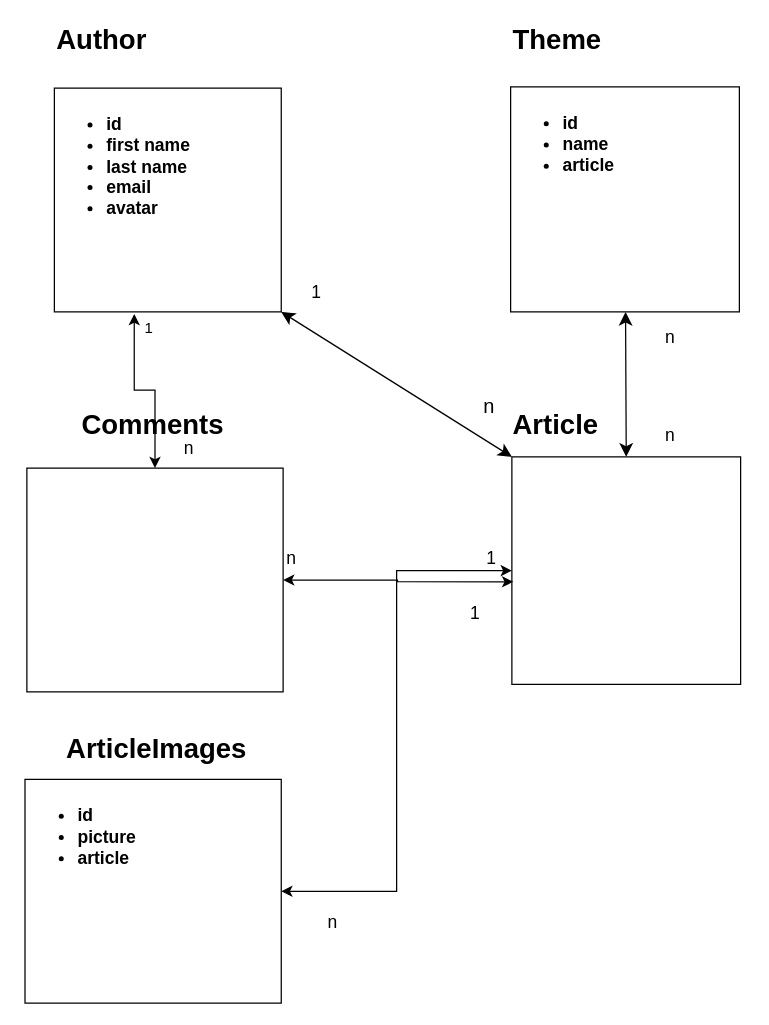
This 769x1025 diagram has some shape labels left out. The shapes that lost their labels are listed below. From the top down, each one's centre as x and y in pixels, then its label:
the point at 154,579: id text user article created_at
the point at 626,570: i d theme text author created_at title description slug
